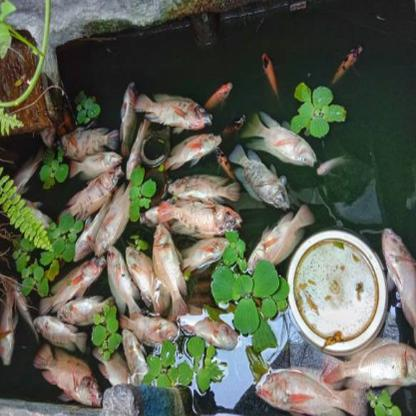deceased fish: (251, 368, 366, 416), (25, 339, 104, 408), (243, 107, 317, 170), (40, 255, 111, 314), (250, 204, 316, 266), (322, 339, 416, 382), (380, 223, 416, 335), (227, 148, 292, 207), (95, 176, 143, 254), (153, 221, 191, 313), (65, 164, 126, 216), (119, 243, 162, 311), (141, 92, 214, 130), (120, 300, 179, 347), (160, 130, 229, 169), (107, 241, 140, 318), (32, 312, 90, 353), (50, 125, 117, 155), (162, 176, 243, 200), (69, 146, 125, 179), (56, 298, 117, 326), (1, 277, 19, 367), (121, 330, 150, 384)
